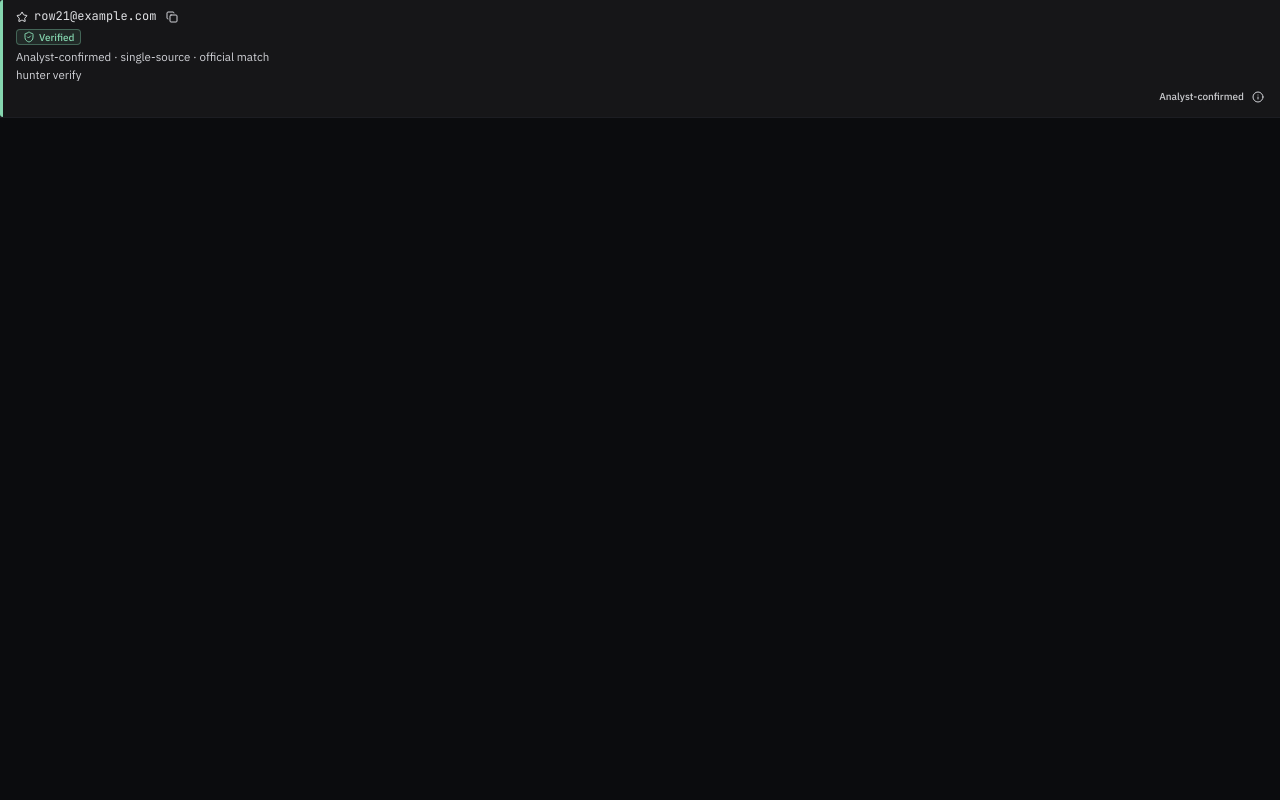
it: Evidence board row — the confidence slot › the ⓘ popover headline IS the canonical score, never a re-derived total
The width and height of the screenshot is (1280, 800).
Click the button named "Why is this": (1258, 97) [1246,85,1270,109]
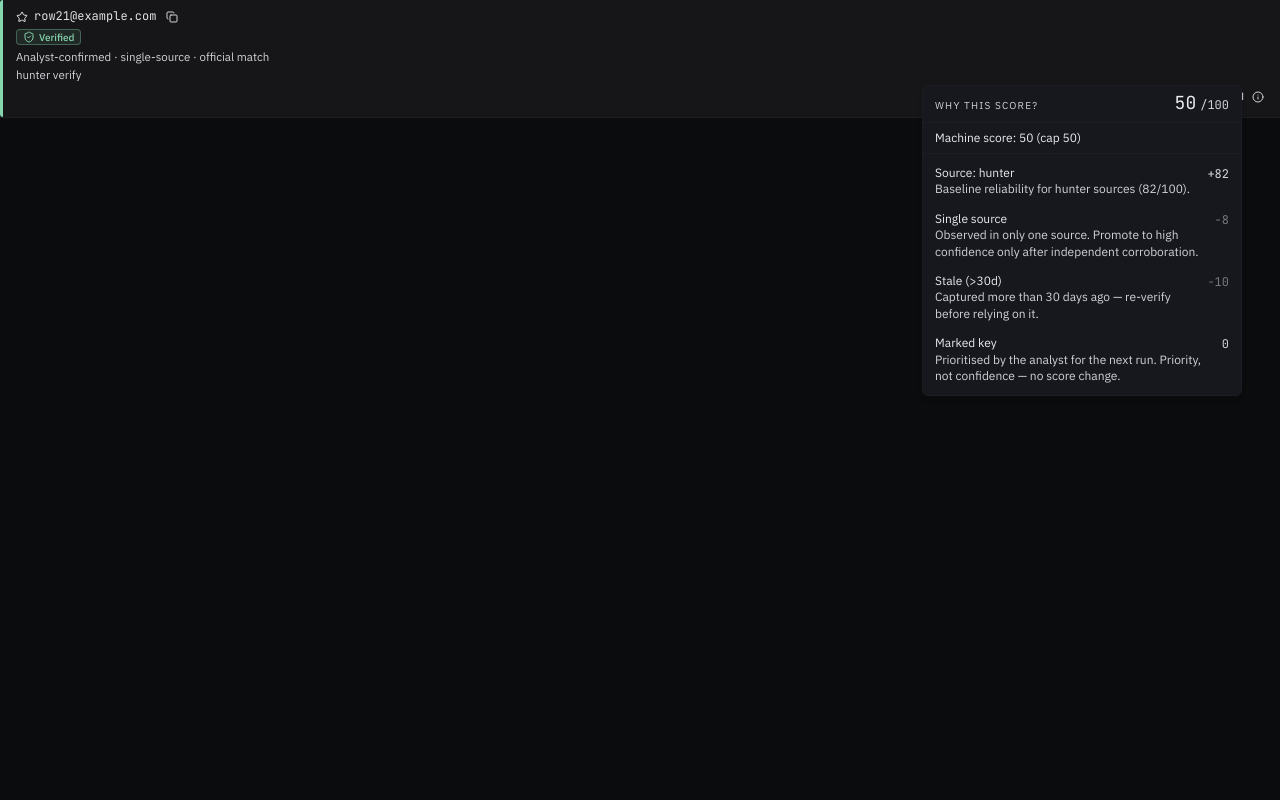
Check: the text "Why this score?" is shown, box [935,100,1038,111]
Check: the text "50" is shown, box [1175,94,1196,112]
